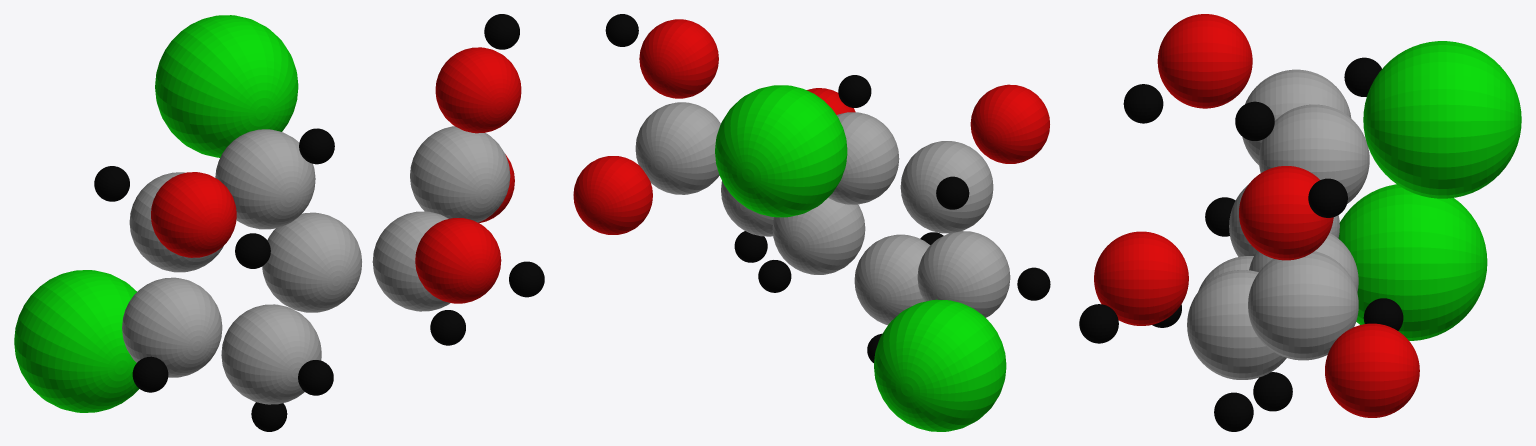
File: Sucralose.glb
3 views of the same model, side by side, from view 1: azimuth 30°, elevation 25°; view 2: azimuth 150°, elevation 25°; view 3: azimuth 270°, elevation 25° (orthographic). The views are drawn at different scales.
Visible parts, largest first — view 1: world; view 2: world; view 3: world.
Part boxes in pixels (x1,y1,x2,y2): world: (14,14,544,431); world: (573,14,1050,431); world: (1079,14,1521,431).
Size of the model in its own units: 7.55 by 5.29 by 5.59.
